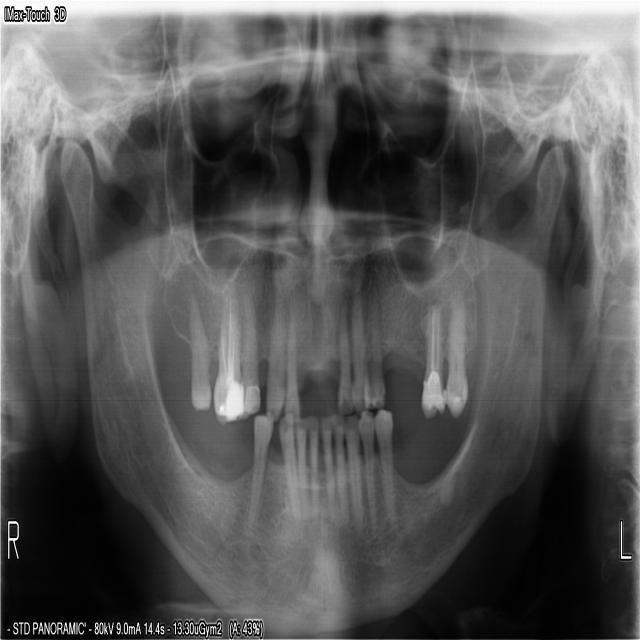LCD: (341, 409, 364, 539)
LCU: (348, 286, 369, 416)
LID: (329, 407, 351, 534), (317, 406, 337, 524)
LIU: (335, 299, 354, 417)
LMU: (442, 287, 468, 419), (418, 298, 445, 422)
LPMD: (371, 402, 397, 533), (354, 403, 377, 539)
LPMU: (361, 281, 386, 413)
RCD: (275, 405, 302, 529)
RCU: (262, 290, 286, 428)
RID: (292, 409, 310, 528), (304, 407, 321, 523)
RIU: (282, 307, 301, 425)
RMU: (210, 278, 243, 433), (185, 286, 211, 416)
RPMD: (240, 402, 274, 536)
RPMU: (234, 285, 260, 423)
